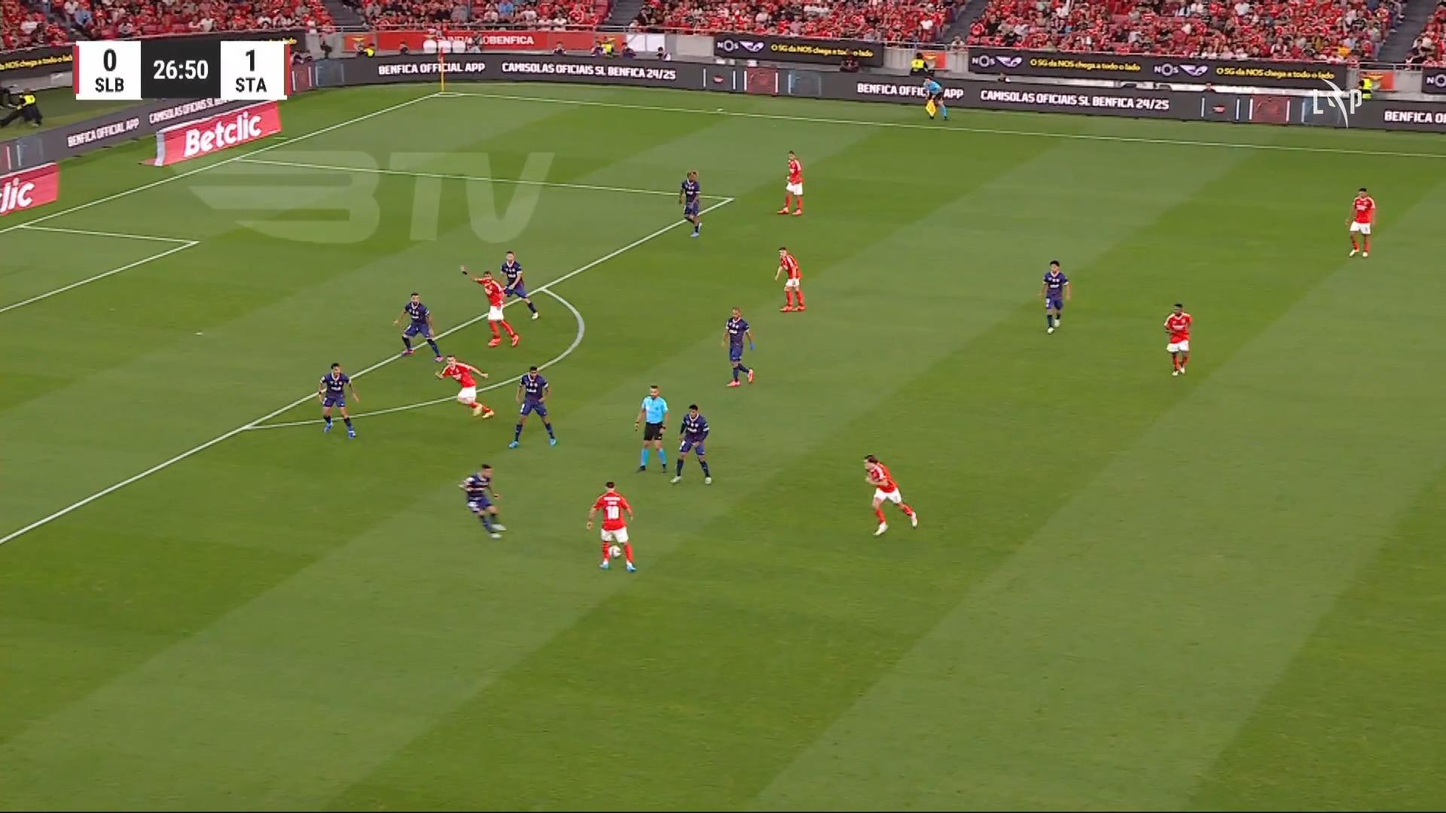ball: (609, 545, 621, 558)
player: (459, 264, 520, 348), (585, 480, 637, 572), (862, 453, 918, 536), (507, 364, 557, 448), (435, 354, 494, 419), (392, 291, 444, 363), (458, 463, 506, 538), (669, 403, 712, 484), (316, 361, 359, 438), (499, 250, 540, 321), (721, 306, 755, 387), (1039, 259, 1071, 334), (773, 246, 806, 312), (1344, 187, 1375, 257), (1162, 302, 1191, 376), (776, 150, 804, 215), (677, 169, 703, 238)
referee: (633, 384, 669, 473), (921, 75, 949, 120)
